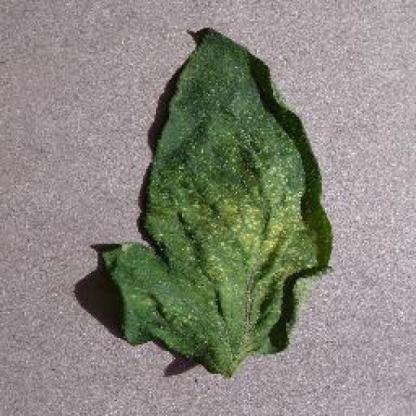Tomato_Spider_Mites: (100, 32, 314, 370)
